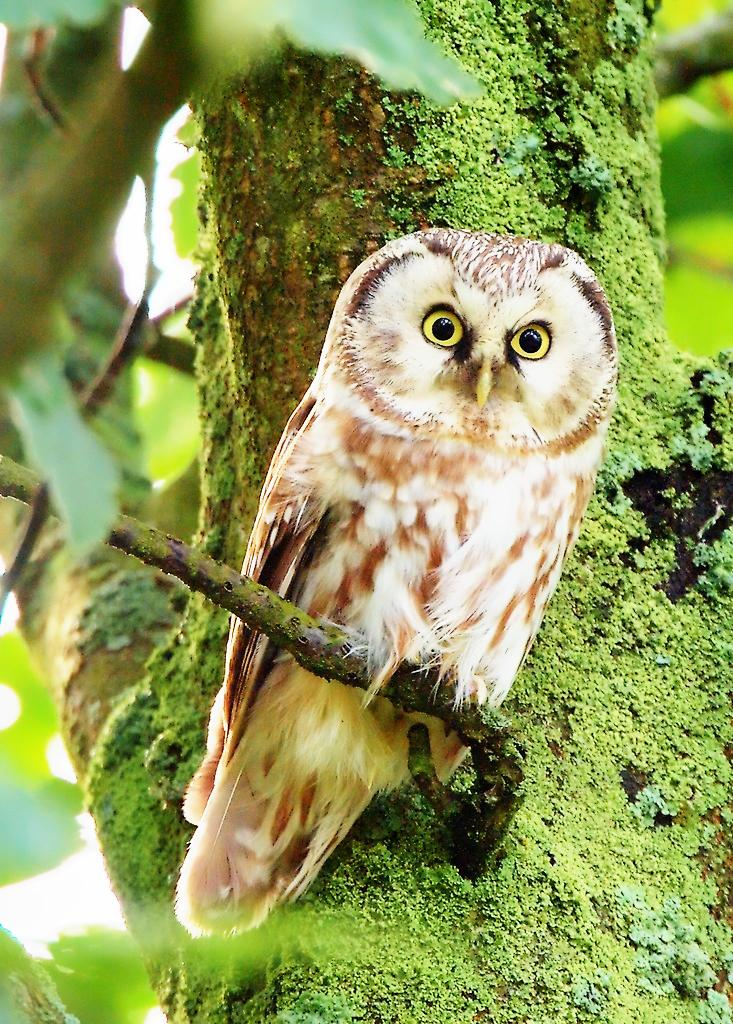Owl: (163, 222, 626, 928)
